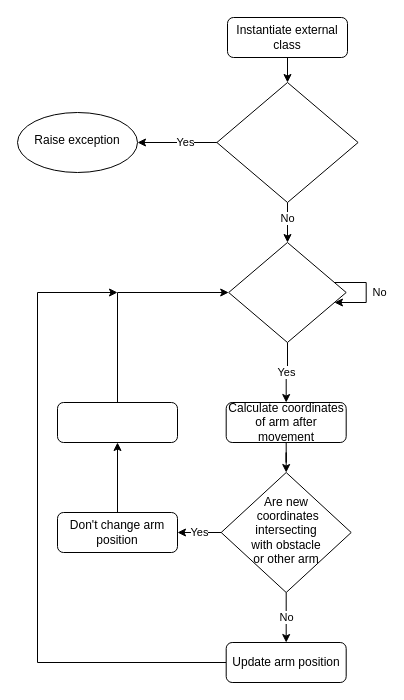
Some shapes in this 404 by 700 pixel diagram are drawn without their labels. Here are the shapes that lost their labels. From the top down, the centre of each, then its label:
the point at 287,142: Is any initial arm position intersecting with any obstacle?
the point at 287,292: Has update() been called?
the point at 117,422: Inform user of movement failure reason
